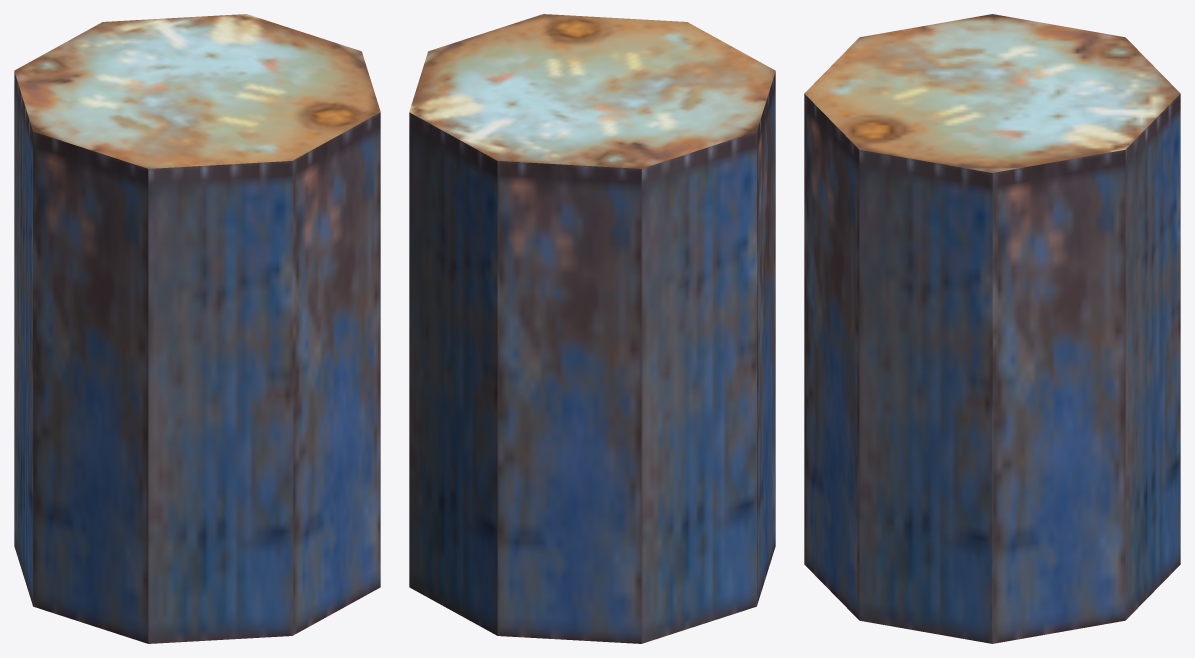
Rendered from barellBlue.fbx.
The picture shows the model from 3 angles, left to right: view 1: azimuth 30°, elevation 25°; view 2: azimuth 150°, elevation 25°; view 3: azimuth 270°, elevation 25°; orthographic projection.
Parts seen in each view (by area): view 1: Cylinder.021; view 2: Cylinder.021; view 3: Cylinder.021.
Boxes of the visible parts, <box> form: Cylinder.021: <box>14,14,380,643</box>; Cylinder.021: <box>409,14,775,643</box>; Cylinder.021: <box>804,14,1180,643</box>.
Size of the model in its own units: 349 by 482 by 349.
